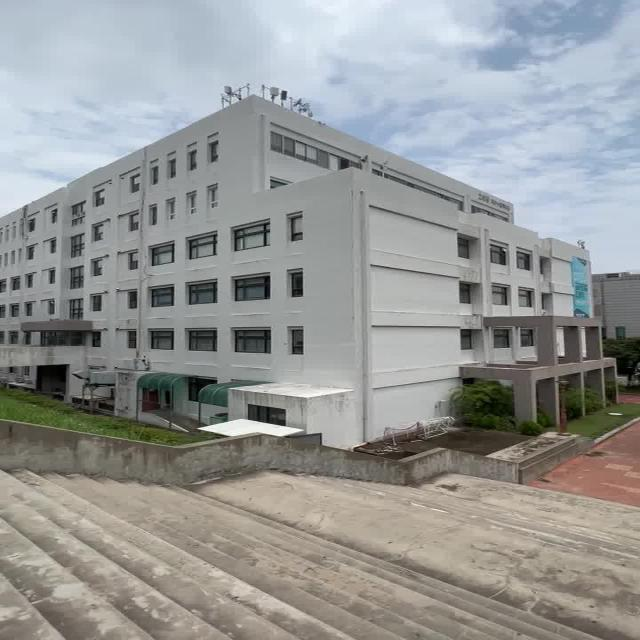building: (18, 111, 604, 411)
